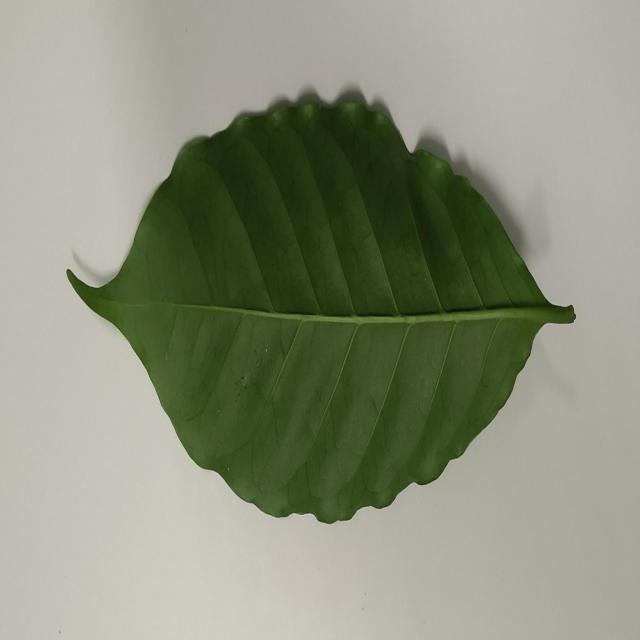Sanas: (64, 88, 578, 526)
